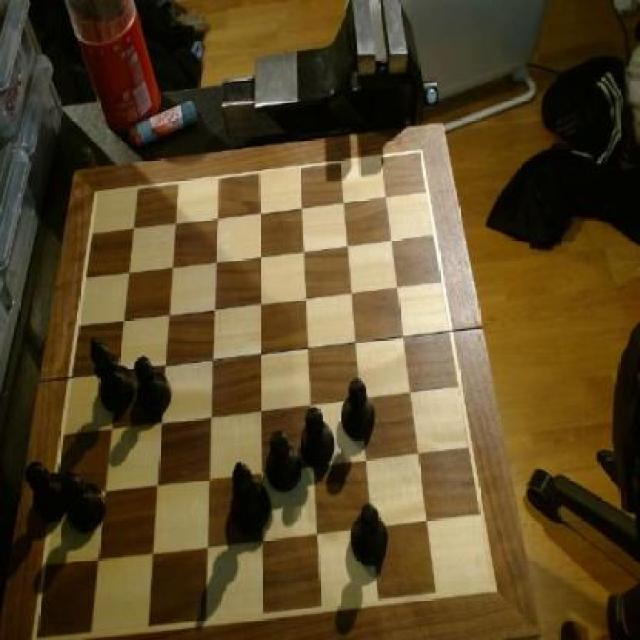bishop: (228, 458, 274, 541), (90, 334, 136, 416)
black-knight: (23, 460, 66, 527), (132, 352, 173, 420), (65, 469, 109, 531), (349, 502, 390, 568), (265, 429, 302, 495), (299, 412, 336, 476), (342, 379, 378, 443)
